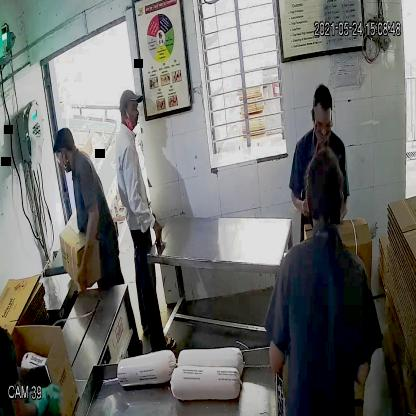goggles: (312, 112, 335, 134)
